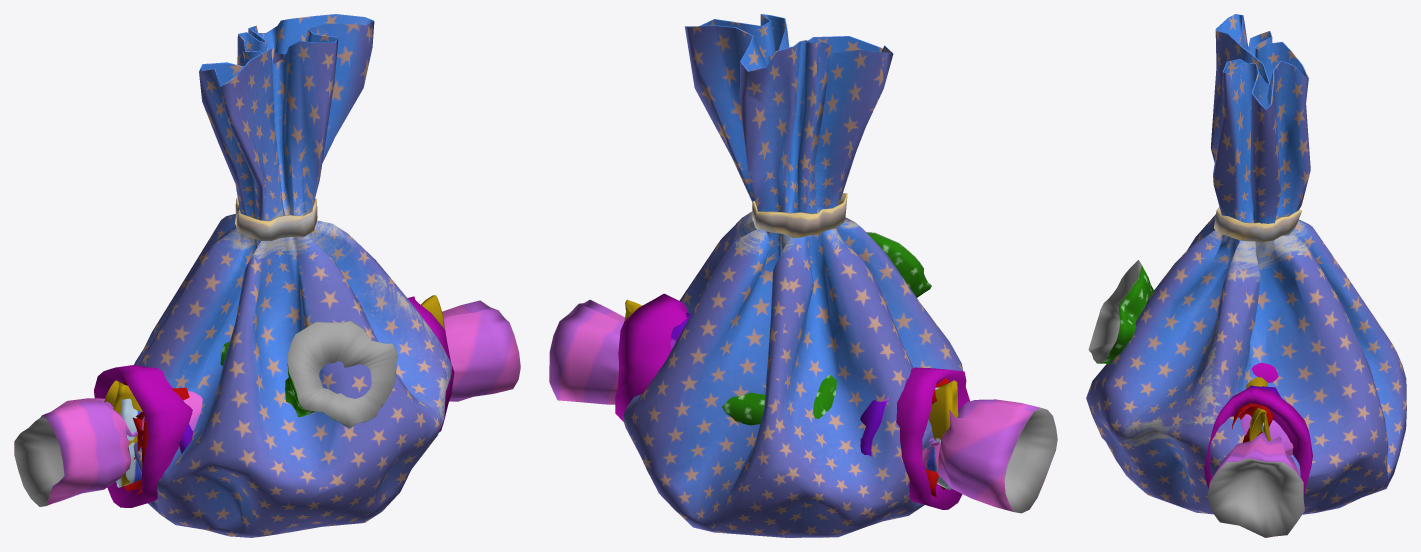
Rendered from Scp330Pickup.fbx.
The picture shows the model from 3 angles, left to right: view 1: azimuth 30°, elevation 25°; view 2: azimuth 150°, elevation 25°; view 3: azimuth 270°, elevation 25°; orthographic projection. The views are drawn at different scales.
Visible parts, largest first — view 1: Bucket, Mesh_CandyPink_LOD0, Mesh_CandyGreen_LOD0, Mesh_CandyRainbow_LOD0, Mesh_CandyYellow_LOD0, Mesh_CandyBlue_LOD0, Mesh_CandyRed_LOD0; view 2: Bucket, Mesh_CandyPink_LOD0, Mesh_CandyRainbow_LOD0, Mesh_CandyGreen_LOD0, Mesh_CandyYellow_LOD0, Mesh_CandyPurple_LOD0; view 3: Bucket, Mesh_CandyPink_LOD0, Mesh_CandyGreen_LOD0, Mesh_CandyRainbow_LOD0, Mesh_CandyYellow_LOD0, Mesh_CandyRed_LOD0.
Boxes of the visible parts, left/top/right/bottom form: Bucket: left=133, top=14, right=451, bottom=537; Mesh_CandyPink_LOD0: left=14, top=300, right=520, bottom=506; Mesh_CandyGreen_LOD0: left=220, top=321, right=397, bottom=427; Mesh_CandyRainbow_LOD0: left=94, top=296, right=454, bottom=507; Mesh_CandyYellow_LOD0: left=104, top=295, right=444, bottom=486; Mesh_CandyBlue_LOD0: left=116, top=398, right=141, bottom=487; Mesh_CandyRed_LOD0: left=123, top=380, right=189, bottom=494; Bucket: left=622, top=14, right=962, bottom=537; Mesh_CandyPink_LOD0: left=549, top=299, right=1057, bottom=513; Mesh_CandyRainbow_LOD0: left=615, top=293, right=969, bottom=509; Mesh_CandyGreen_LOD0: left=722, top=232, right=931, bottom=425; Mesh_CandyYellow_LOD0: left=624, top=299, right=958, bottom=439; Mesh_CandyPurple_LOD0: left=670, top=312, right=888, bottom=456; Bucket: left=1086, top=14, right=1406, bottom=514; Mesh_CandyPink_LOD0: left=1207, top=414, right=1304, bottom=537; Mesh_CandyGreen_LOD0: left=1088, top=260, right=1153, bottom=364; Mesh_CandyRainbow_LOD0: left=1204, top=363, right=1312, bottom=495; Mesh_CandyYellow_LOD0: left=1246, top=377, right=1270, bottom=442; Mesh_CandyRed_LOD0: left=1232, top=403, right=1274, bottom=442.
Size of what is drawn, in the model's own units: 0.3326 by 0.3285 by 0.2121.
Materials: 3 (3 with a texture image).
